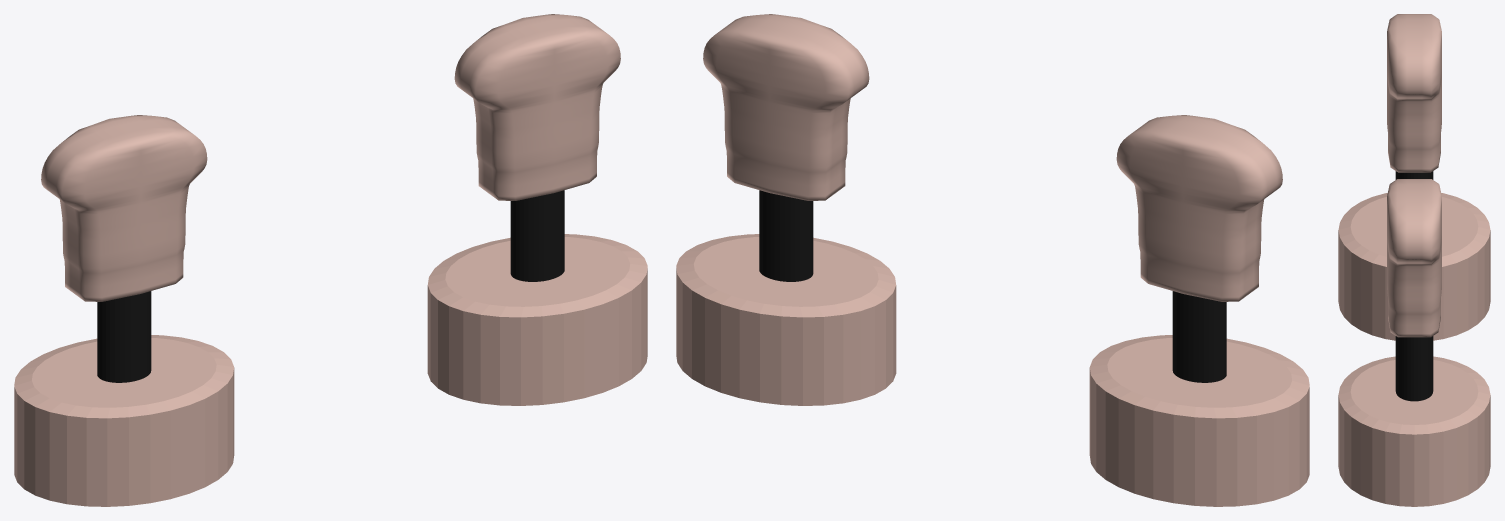
Rendered from muñeco.obj.
The picture shows the model from 3 angles, left to right: view 1: azimuth 30°, elevation 25°; view 2: azimuth 150°, elevation 25°; view 3: azimuth 270°, elevation 25°; orthographic projection. The views are drawn at different scales.
Visible parts, largest first — view 1: SacoPersona, object 3; view 2: SacoPersona, object 3; view 3: object 3, SacoPersona.
Boxes of the visible parts, box(x1,y1,x2,y2) form: SacoPersona: box(14, 115, 234, 506); object 3: box(427, 14, 647, 405); SacoPersona: box(1089, 115, 1309, 506); object 3: box(676, 14, 896, 405); object 3: box(1338, 179, 1490, 506); SacoPersona: box(1338, 14, 1490, 340).
Size of the model in its own units: 25.08 by 13.14 by 6.59.
